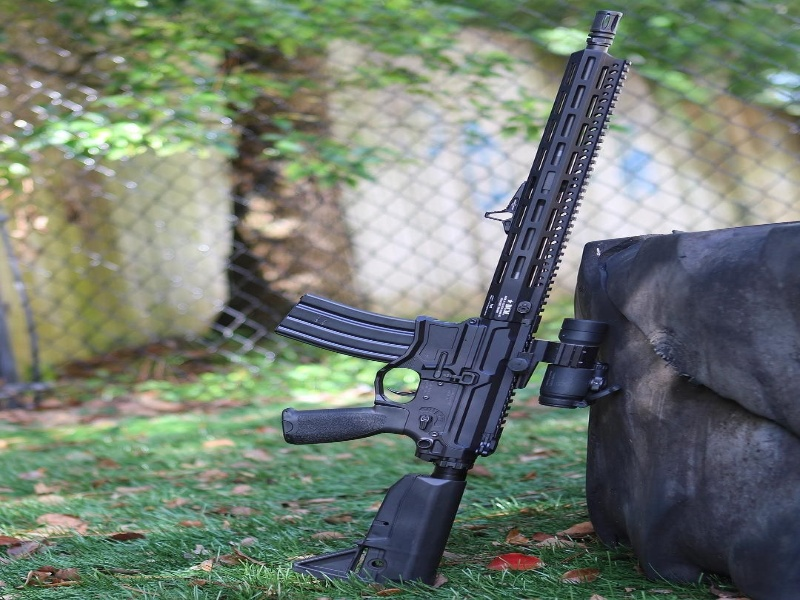weapon: (273, 11, 630, 587)
